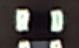COMP: (10, 4, 68, 37)
GAP: (14, 21, 63, 48)
